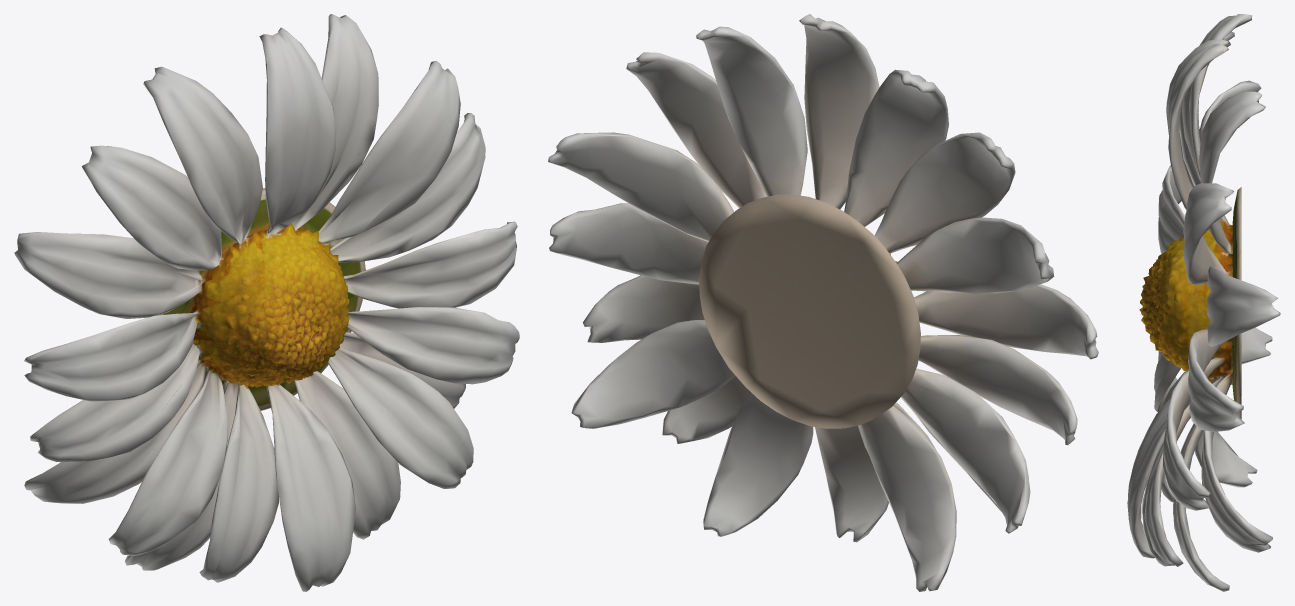
Rendered from margarida_convite_8k.glb.
3 views of the same model, side by side, from view 1: azimuth 30°, elevation 25°; view 2: azimuth 150°, elevation 25°; view 3: azimuth 270°, elevation 25° (orthographic). The views are drawn at different scales.
Parts seen in each view (by area): view 1: tripo_node_cd78e15a-71e6-46b3-a889-490813e11058; view 2: tripo_node_cd78e15a-71e6-46b3-a889-490813e11058; view 3: tripo_node_cd78e15a-71e6-46b3-a889-490813e11058.
Boxes of the visible parts, x1,y1,x2,y2 form: tripo_node_cd78e15a-71e6-46b3-a889-490813e11058: (14, 14, 519, 591); tripo_node_cd78e15a-71e6-46b3-a889-490813e11058: (548, 14, 1098, 591); tripo_node_cd78e15a-71e6-46b3-a889-490813e11058: (1127, 14, 1280, 591).
Bounding box in the file's own units: 0.9808 × 0.9799 × 0.2649.
1 material, 1 textured.
